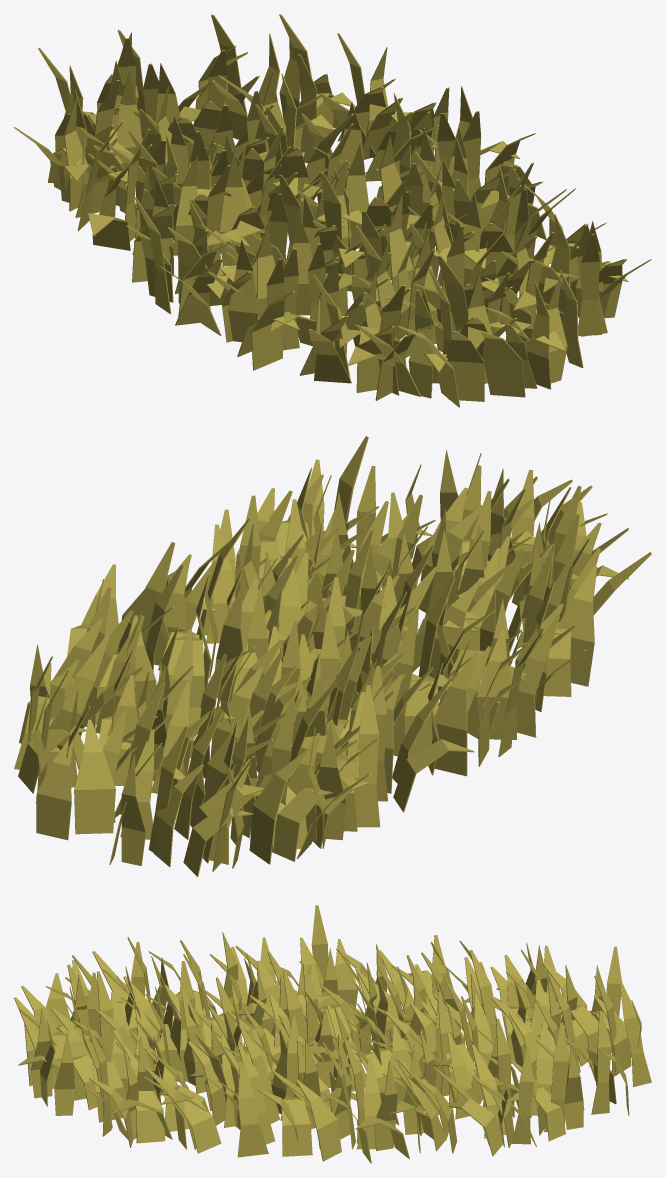
File: GrassBigOval.fbx
3 renders of one model, top to bottom at view 1: azimuth 30°, elevation 25°; view 2: azimuth 150°, elevation 25°; view 3: azimuth 270°, elevation 25°, orthographic. The views are drawn at different scales.
Visible parts, largest first — view 1: Grass5.011; view 2: Grass5.011; view 3: Grass5.011.
Part boxes in pixels (box(x1,y1,x2,y2)): Grass5.011: box(14, 14, 651, 407); Grass5.011: box(14, 436, 651, 876); Grass5.011: box(14, 905, 651, 1163).
Bounding box in the file's own units: 448 × 130 × 736.
